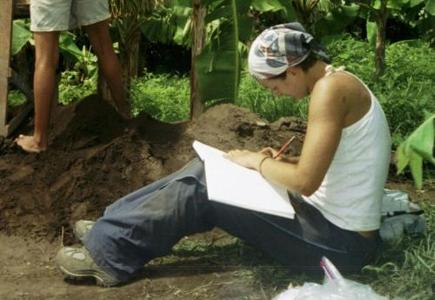person: (56, 24, 393, 289)
